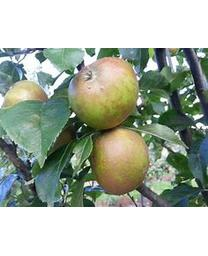apple: (68, 56, 139, 131), (89, 127, 148, 196)
